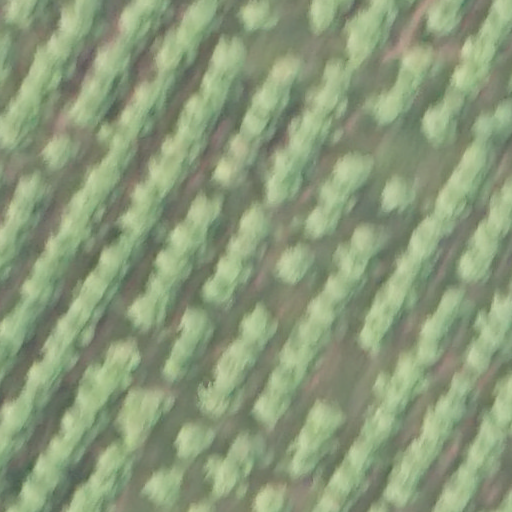eucalipto: (227, 428, 274, 477), (288, 115, 340, 157), (72, 80, 118, 127), (76, 368, 121, 415), (204, 456, 250, 500), (48, 31, 85, 83), (58, 1, 107, 40), (144, 156, 193, 194), (117, 102, 162, 143), (158, 28, 200, 71), (1, 1, 51, 36), (13, 171, 55, 212), (176, 421, 216, 464), (273, 146, 315, 186), (98, 446, 138, 488), (215, 344, 258, 383), (332, 154, 375, 193), (378, 174, 418, 215), (1, 113, 39, 156), (330, 242, 375, 278), (476, 308, 511, 354), (132, 80, 172, 120), (421, 106, 461, 146), (465, 108, 507, 146), (95, 51, 140, 86), (43, 133, 83, 172), (105, 338, 146, 376), (179, 306, 217, 347), (279, 243, 317, 284), (453, 62, 491, 103), (363, 406, 404, 444), (418, 1, 462, 36), (307, 87, 352, 121), (398, 45, 438, 83), (381, 470, 421, 508), (40, 336, 81, 373), (350, 220, 393, 255), (432, 186, 475, 221), (240, 308, 279, 346), (279, 335, 316, 375), (184, 1, 225, 37), (300, 1, 341, 37), (59, 412, 101, 447), (161, 138, 204, 172), (58, 312, 97, 349), (458, 247, 495, 286), (120, 8, 160, 44), (19, 275, 64, 307), (456, 142, 501, 174), (132, 185, 171, 221), (254, 393, 293, 429), (93, 250, 133, 285), (239, 202, 274, 242), (201, 384, 242, 418), (71, 187, 108, 224), (103, 138, 141, 174), (33, 458, 71, 494), (347, 440, 385, 476), (182, 97, 221, 132), (129, 298, 168, 333), (144, 471, 183, 506), (200, 74, 244, 105), (25, 367, 59, 407), (240, 1, 281, 34), (306, 293, 342, 330), (225, 232, 264, 266), (154, 252, 195, 284), (85, 167, 123, 201), (251, 85, 292, 116), (80, 278, 114, 315), (45, 436, 84, 468), (457, 33, 496, 65), (442, 163, 485, 192), (185, 193, 225, 224), (239, 113, 279, 144), (315, 181, 355, 212), (265, 176, 300, 211), (212, 40, 248, 74), (408, 226, 444, 260), (2, 401, 41, 432), (330, 468, 363, 504), (166, 226, 203, 258), (34, 252, 72, 283), (203, 276, 237, 310), (397, 452, 431, 486), (17, 480, 53, 512), (268, 59, 304, 91), (214, 258, 253, 287), (470, 226, 503, 260), (438, 286, 469, 322), (422, 411, 454, 445), (476, 416, 510, 448), (434, 392, 466, 425), (411, 436, 443, 469), (448, 372, 480, 404), (481, 207, 511, 241), (214, 161, 249, 190), (168, 341, 207, 367), (326, 279, 358, 310), (462, 440, 494, 471), (269, 366, 302, 396), (304, 210, 339, 238), (161, 358, 198, 384), (230, 137, 261, 168), (451, 463, 482, 493), (322, 55, 355, 83), (419, 313, 449, 343), (413, 340, 444, 367), (466, 345, 493, 376), (299, 324, 331, 349), (496, 95, 512, 140), (489, 1, 512, 27), (493, 398, 512, 429)
